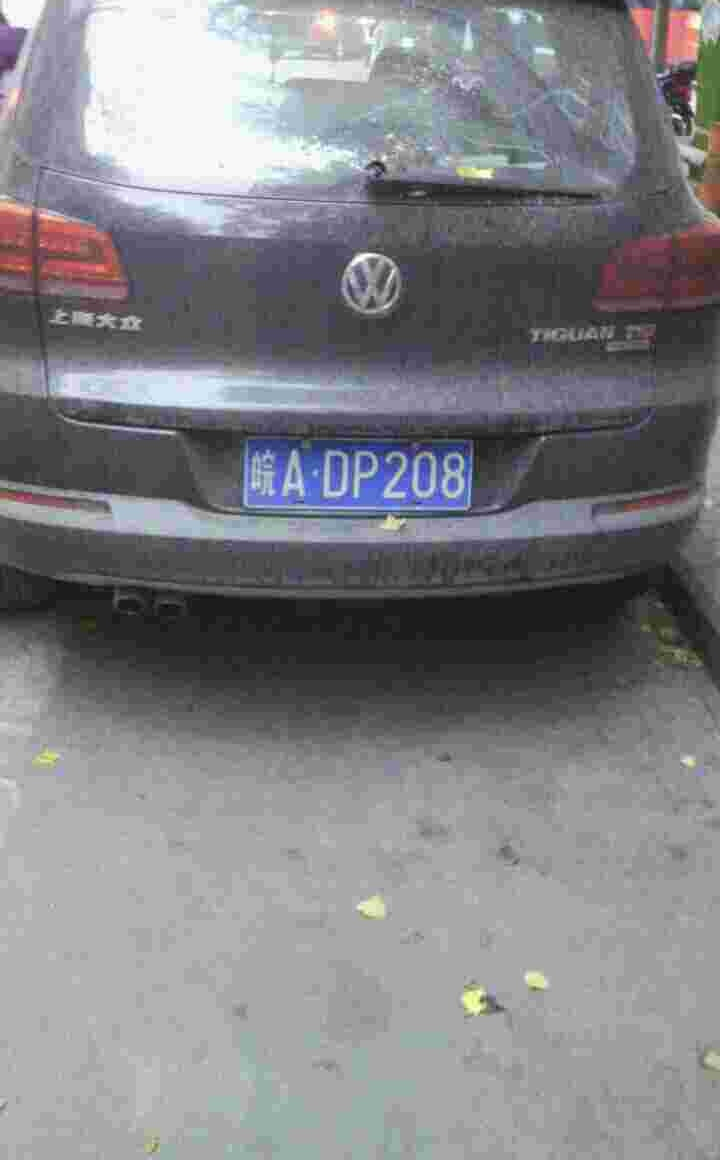license_plate: (248, 436, 494, 507)
